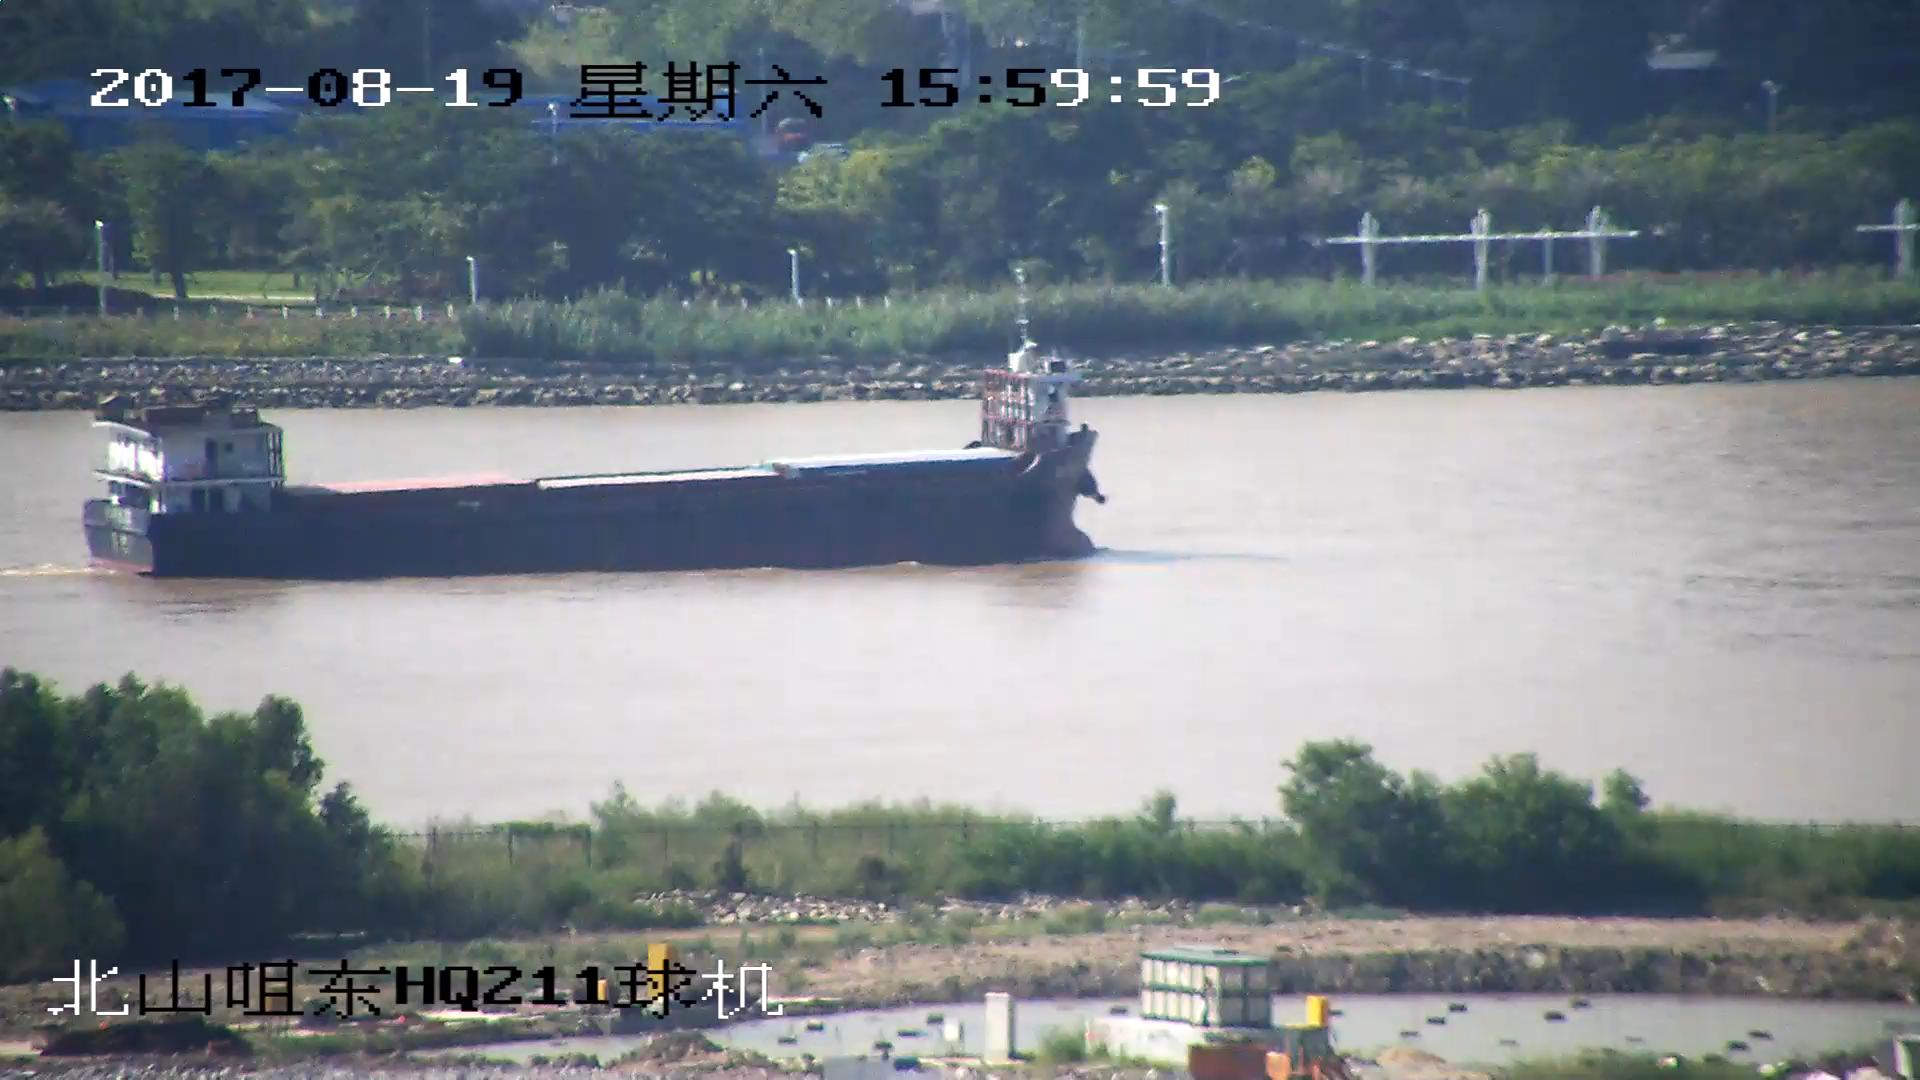general cargo ship: (79, 325, 1111, 578)
